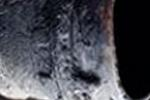rust: (97, 1, 124, 53)
